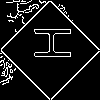H: (25, 25, 70, 61)
